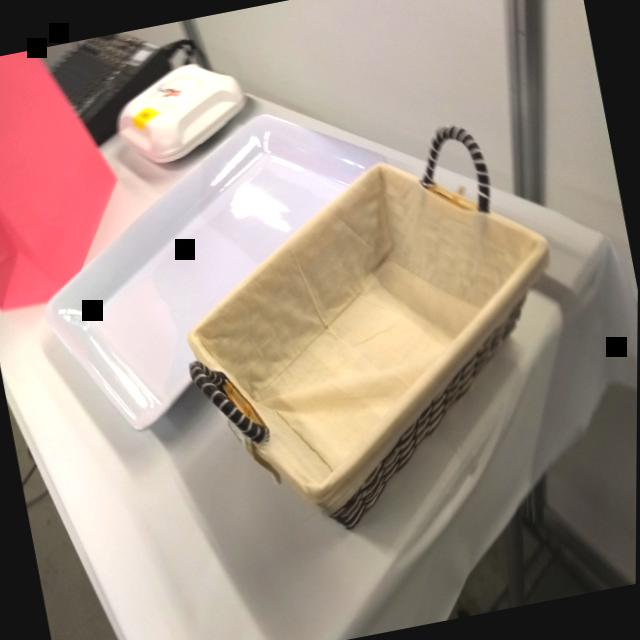basket: (152, 109, 599, 569)
tray: (11, 94, 430, 450)
